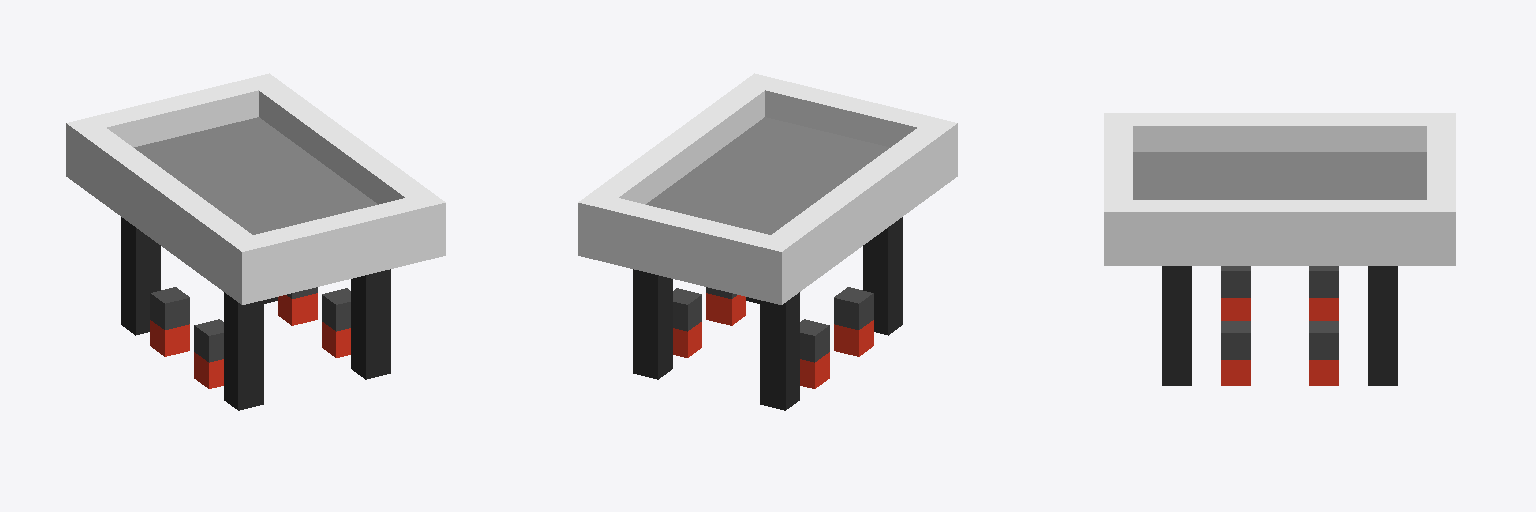
3 renders of one model, left to right at view 1: azimuth 30°, elevation 25°; view 2: azimuth 150°, elevation 25°; view 3: azimuth 270°, elevation 25°, orthographic.
Visible parts, largest first — view 1: object 1; view 2: object 1; view 3: object 1.
Boxes of the visible parts, x1=… form: object 1: x1=66, y1=73, x2=445, y2=410; object 1: x1=578, y1=73, x2=957, y2=410; object 1: x1=1104, y1=113, x2=1455, y2=385.
Size of the model in its own units: 0.8 by 0.7 by 1.2.
Materials: 1 (1 with a texture image).